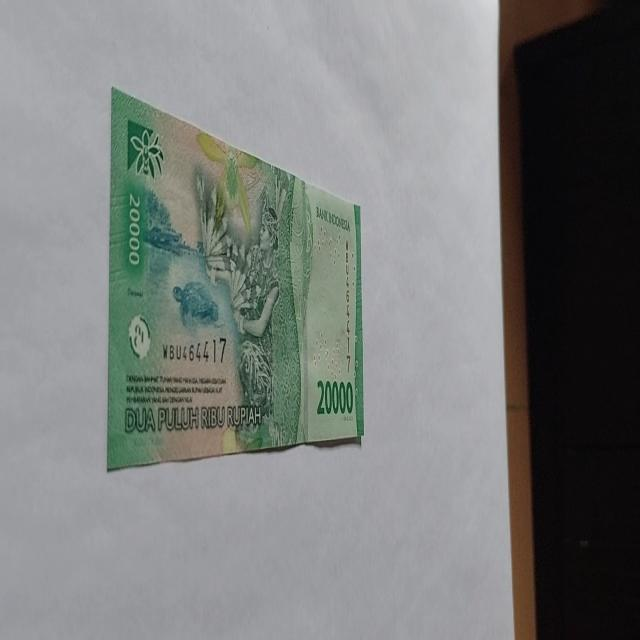dua puluh ribu rupiah: (106, 86, 364, 471)
